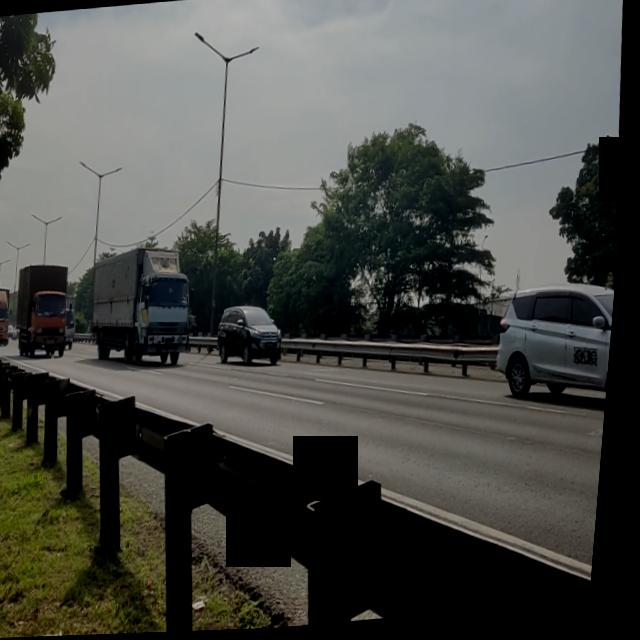Golongan I: (217, 298, 292, 376)
Golongan III: (87, 243, 205, 375)
